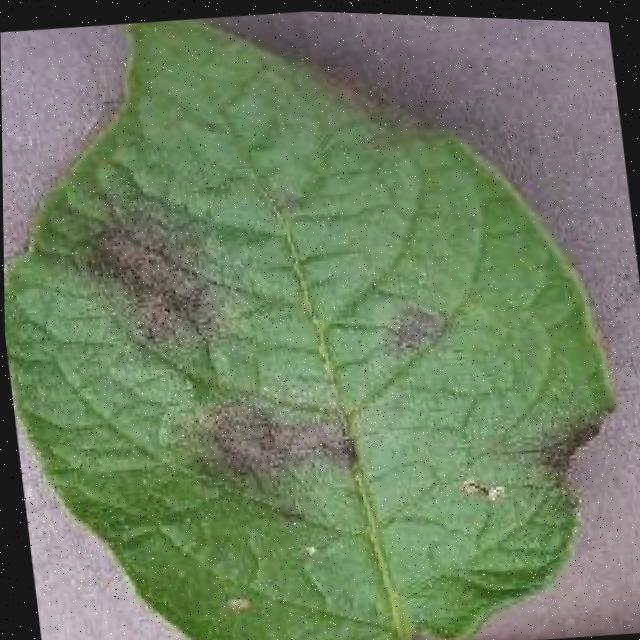Late_blight: (66, 174, 249, 376), (178, 374, 374, 504), (506, 388, 624, 517), (358, 282, 447, 364)
